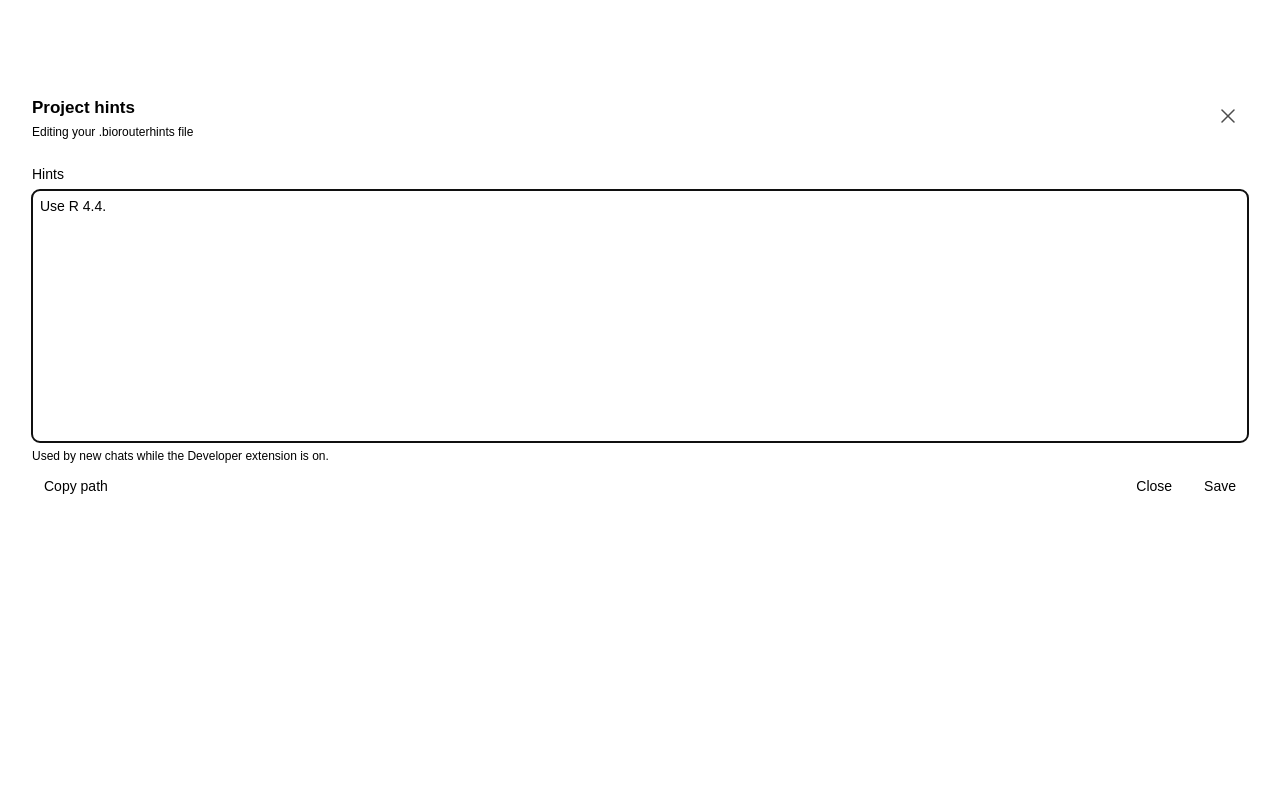
Test: Project hints dialog › loads the file into one labelled field and saves it back
Check: the dialog "Project hints" shows "Editing your .biorouterhints file", box [32,125,193,139]
Check: the dialog "Project hints" does not show "/work/proj", box [16,80,1264,512]
Replace the text in the text box labelled "Hints" with "Use R 4.5.". click: (640, 316)
box: [32,190,1248,442]
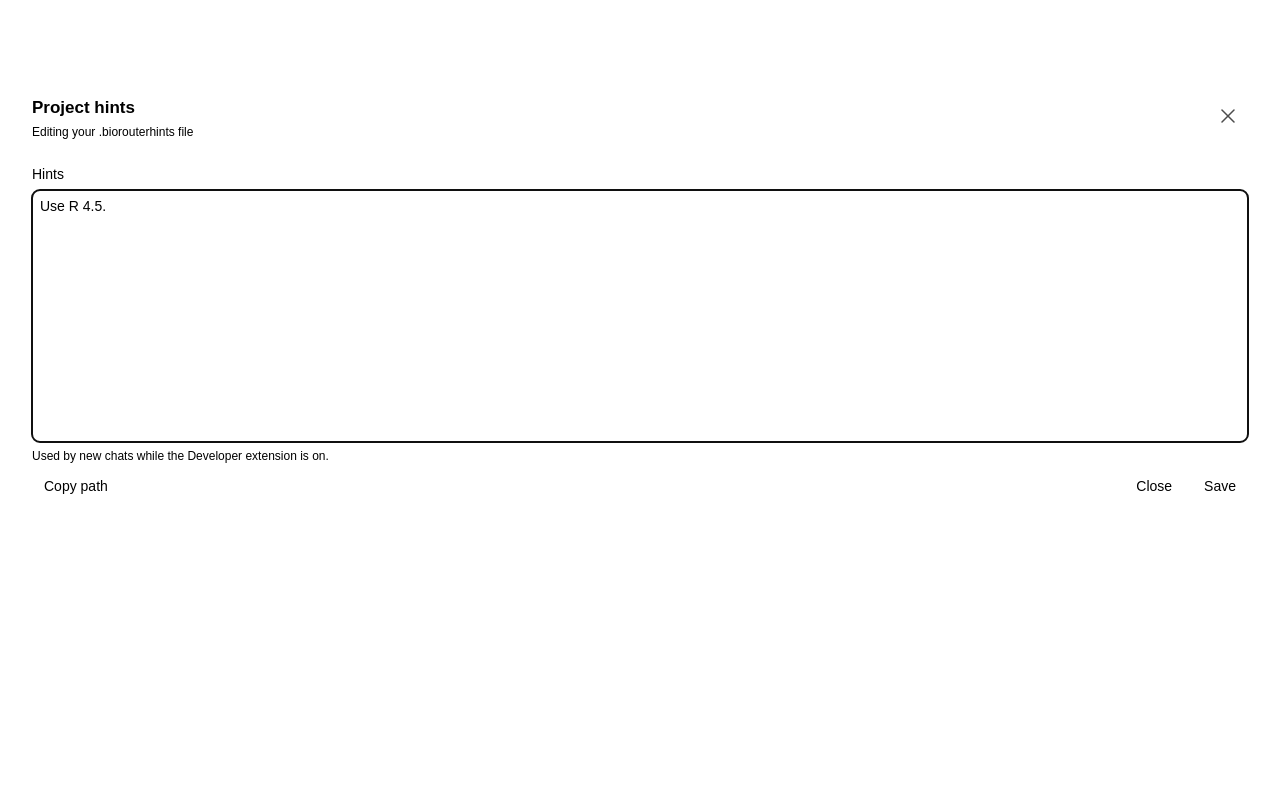
Click the button "Save". click: (1220, 486)
box: [1192,476,1248,496]
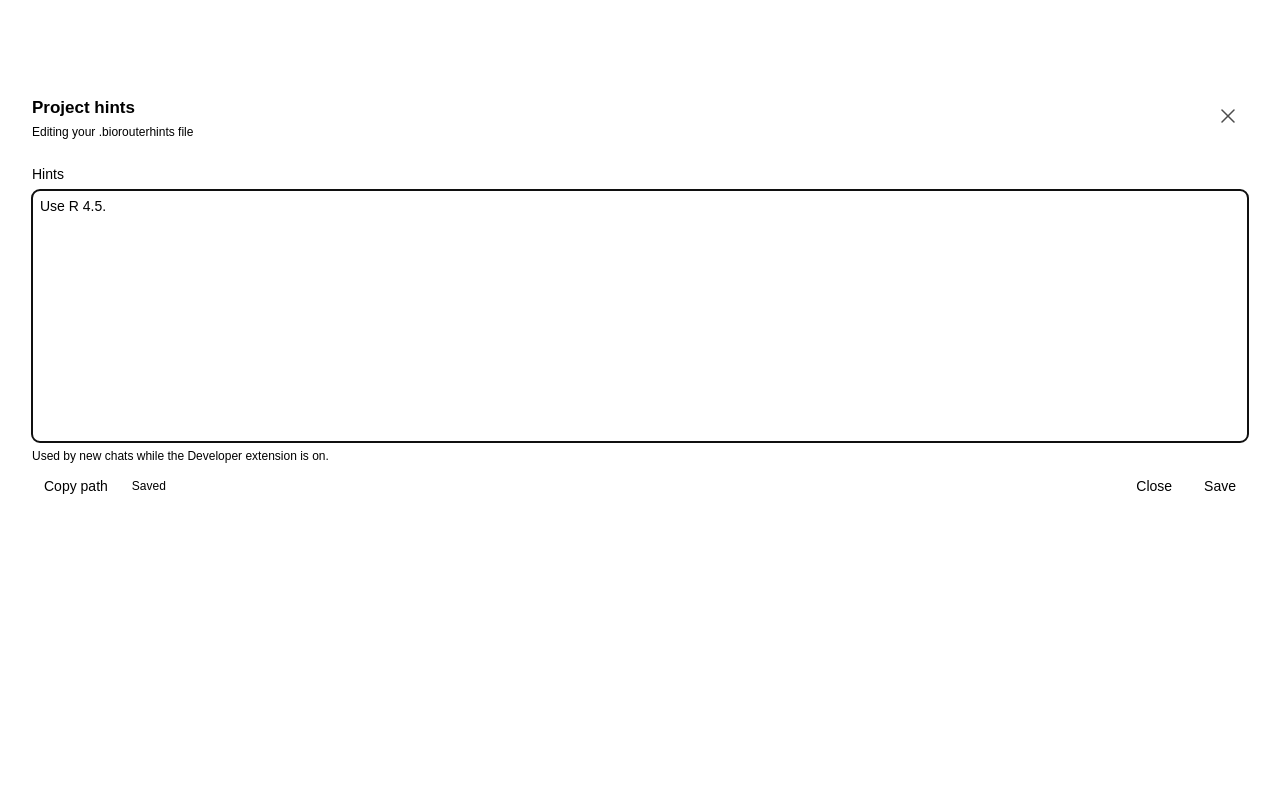
Check: the message reads "Saved", box [132,479,166,493]
